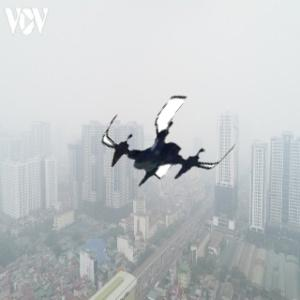drone: (106, 80, 230, 204)
